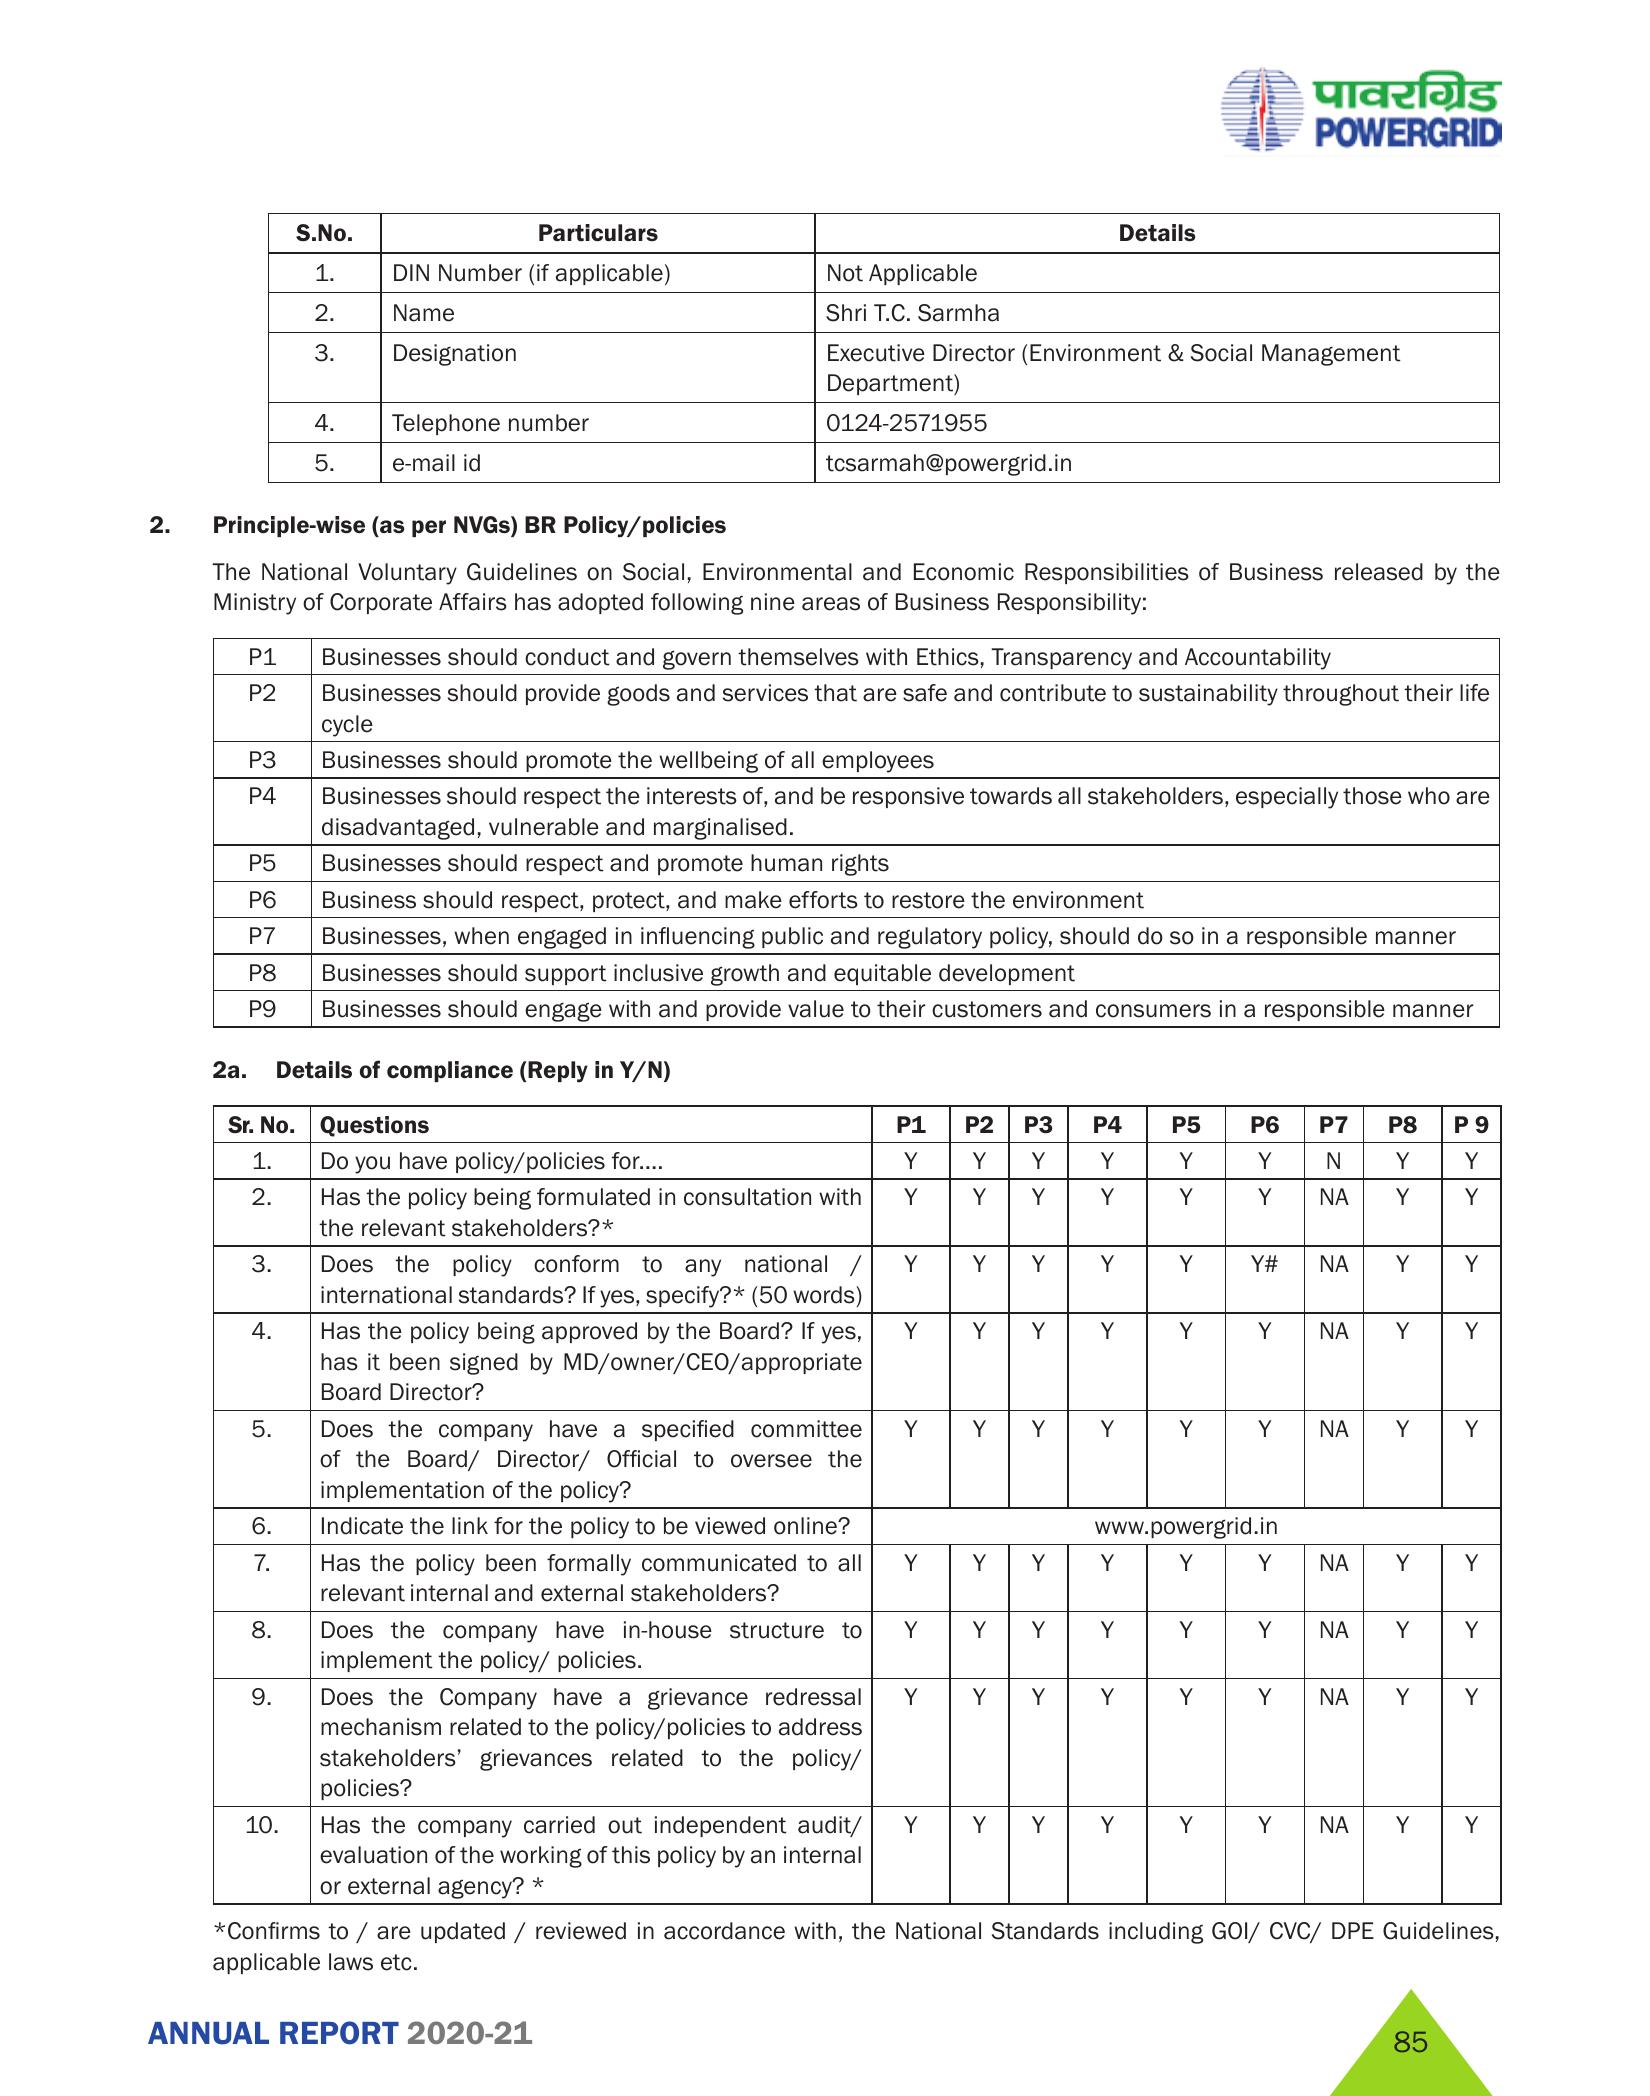Footer: (0, 1965, 1650, 2096)
Header: (0, 0, 1650, 168)
Table: (151, 1091, 1528, 1900), (146, 633, 1528, 1046), (196, 180, 1536, 487)
